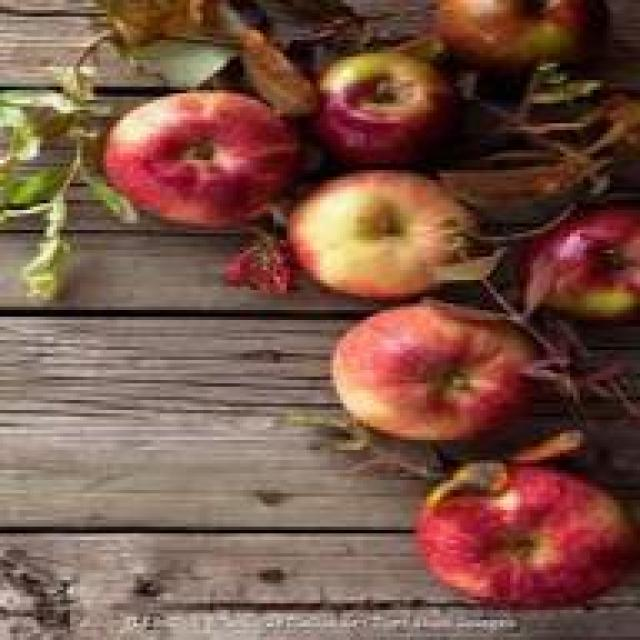apple: (396, 457, 626, 610), (340, 300, 540, 447), (283, 164, 467, 294), (117, 104, 290, 234), (313, 53, 457, 167), (520, 204, 637, 314), (430, 3, 583, 70)
